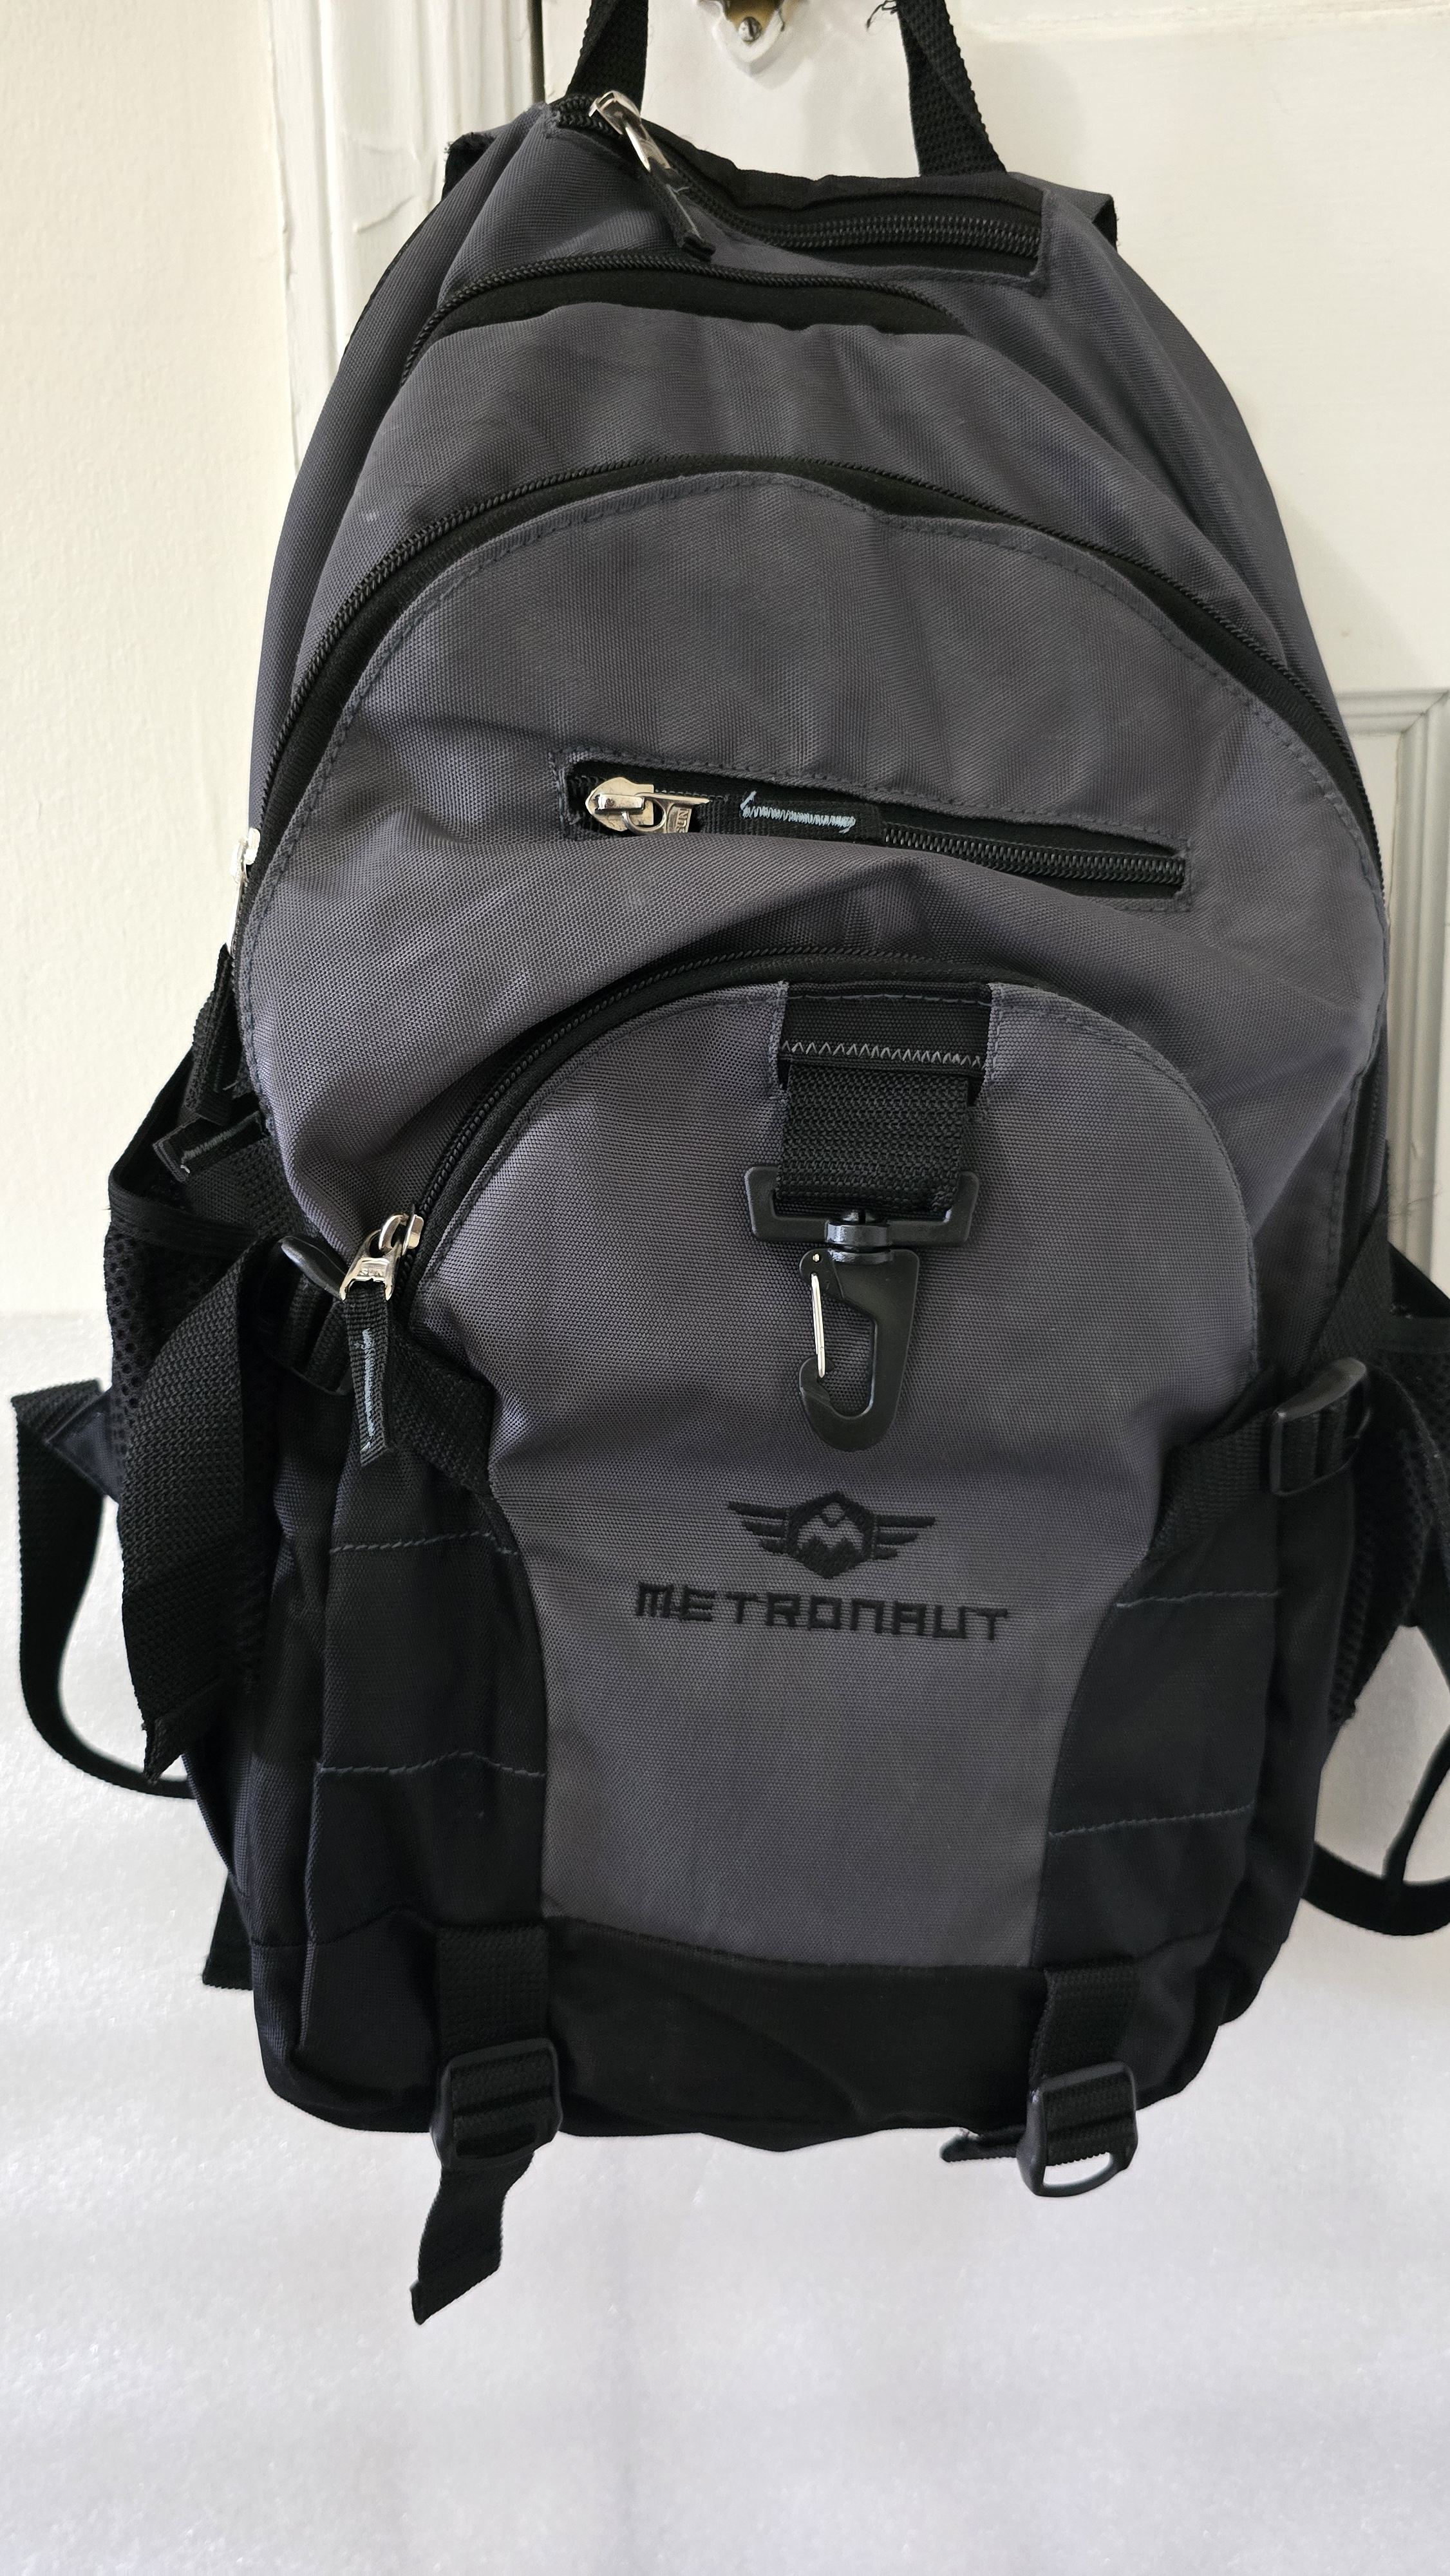bag: (81, 12, 1450, 2151)
